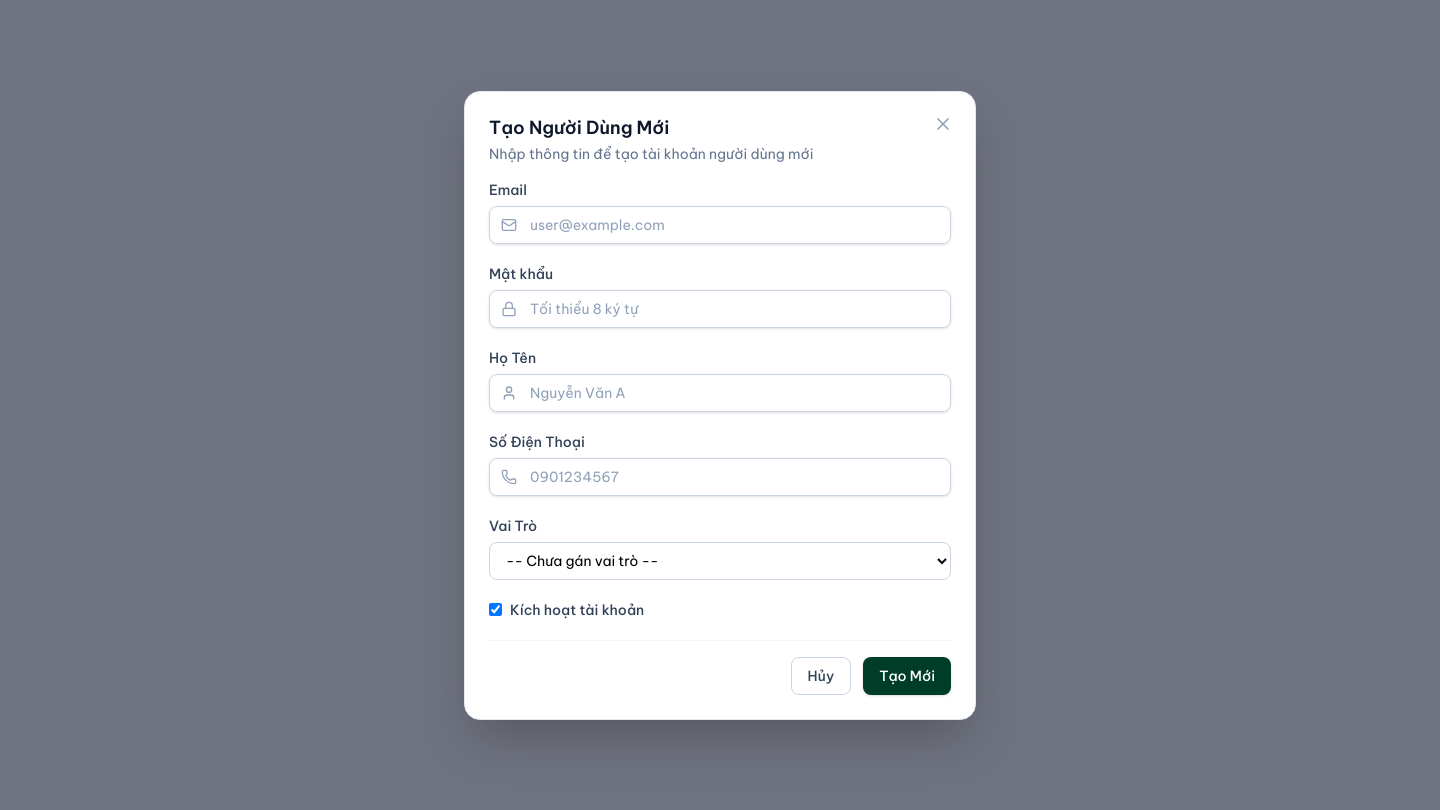
Test: UserFormModal › shows a validation error for a too-short password
The width and height of the screenshot is (1440, 810).
Type "jane@example.com" into the field labelled "Email" at (720,224), box [489,206,951,244]
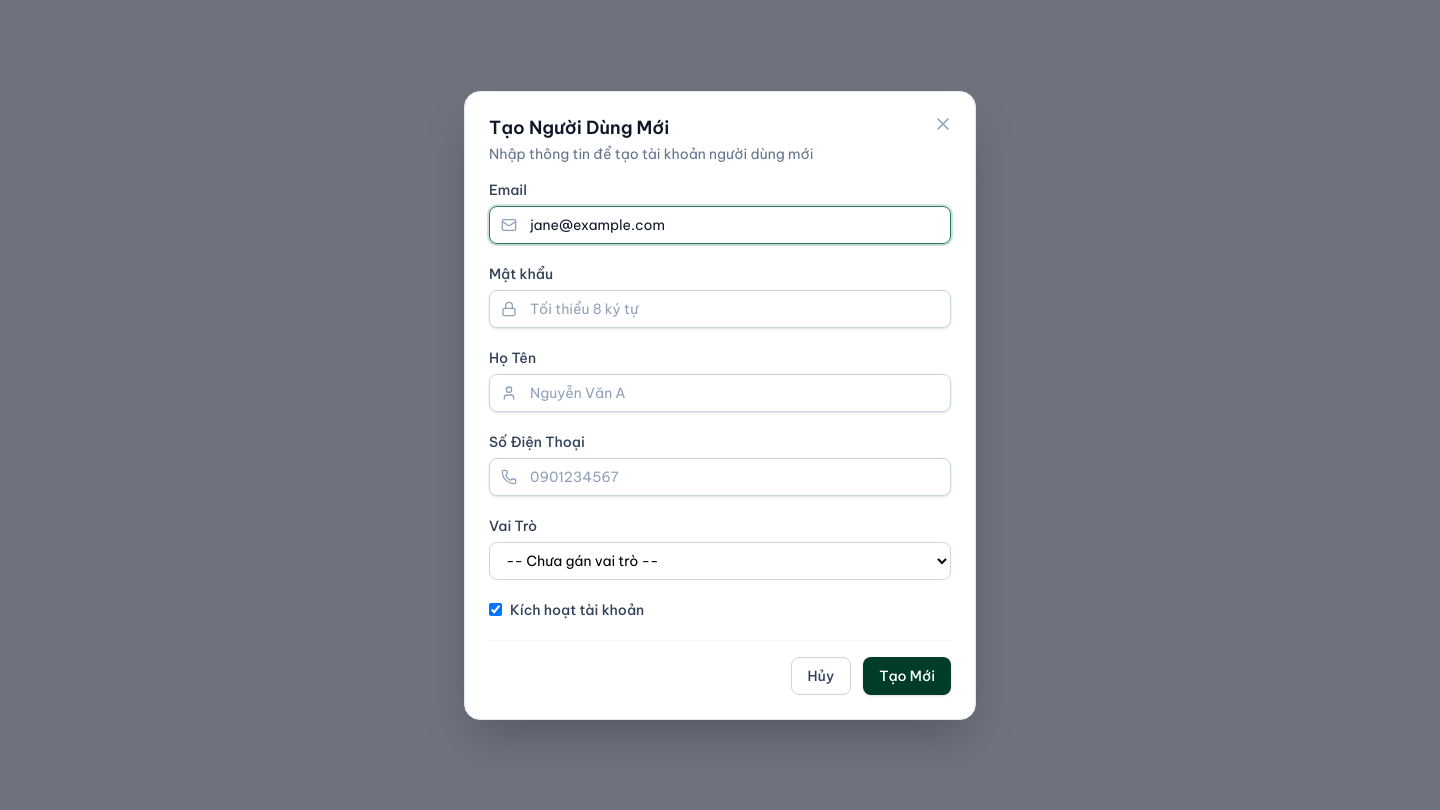
Type "short" into the password field labelled "Mật khẩu" at (720,308), box [489,290,951,328]
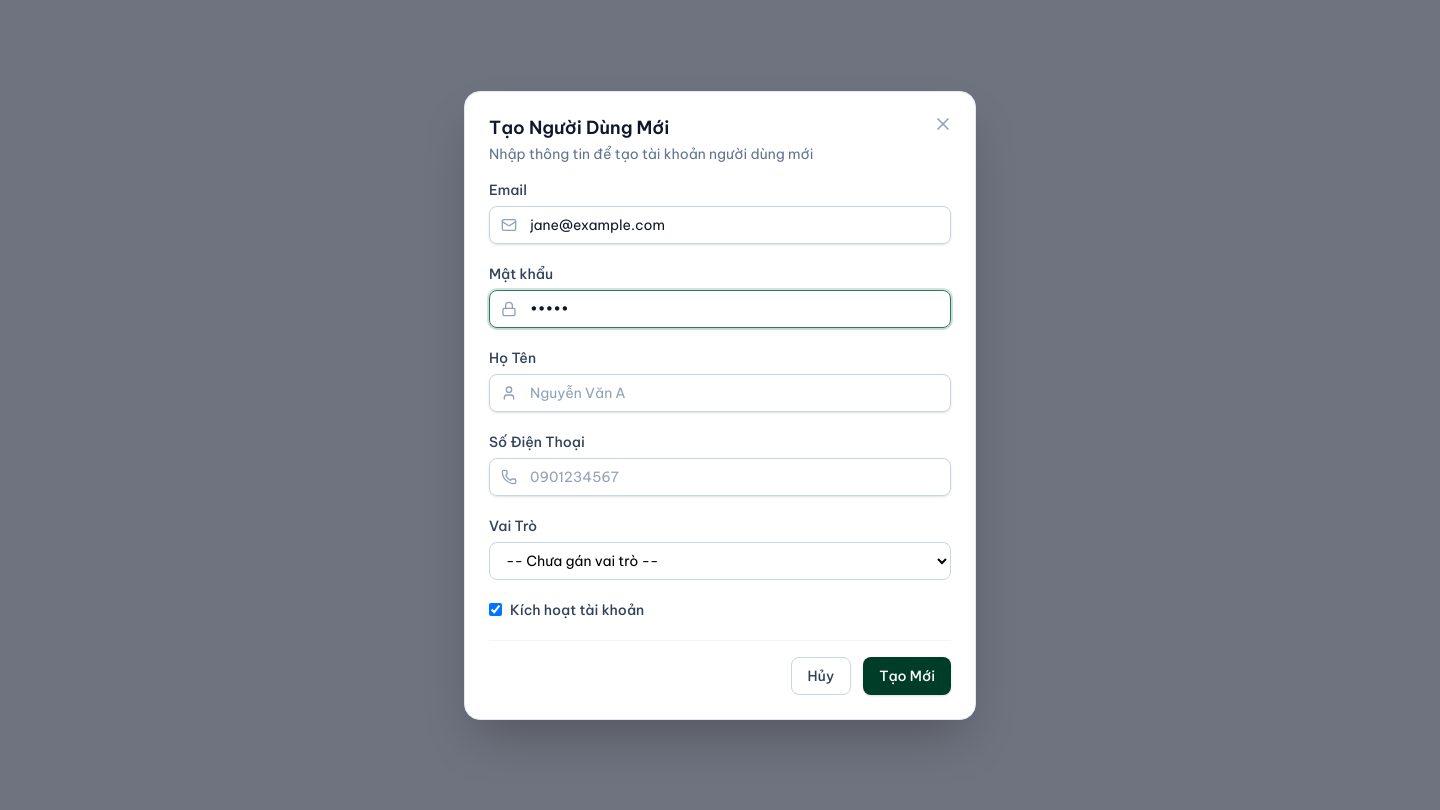
Type "Jane Doe" into the field labelled "Họ Tên" at (720,392), box [489,374,951,412]
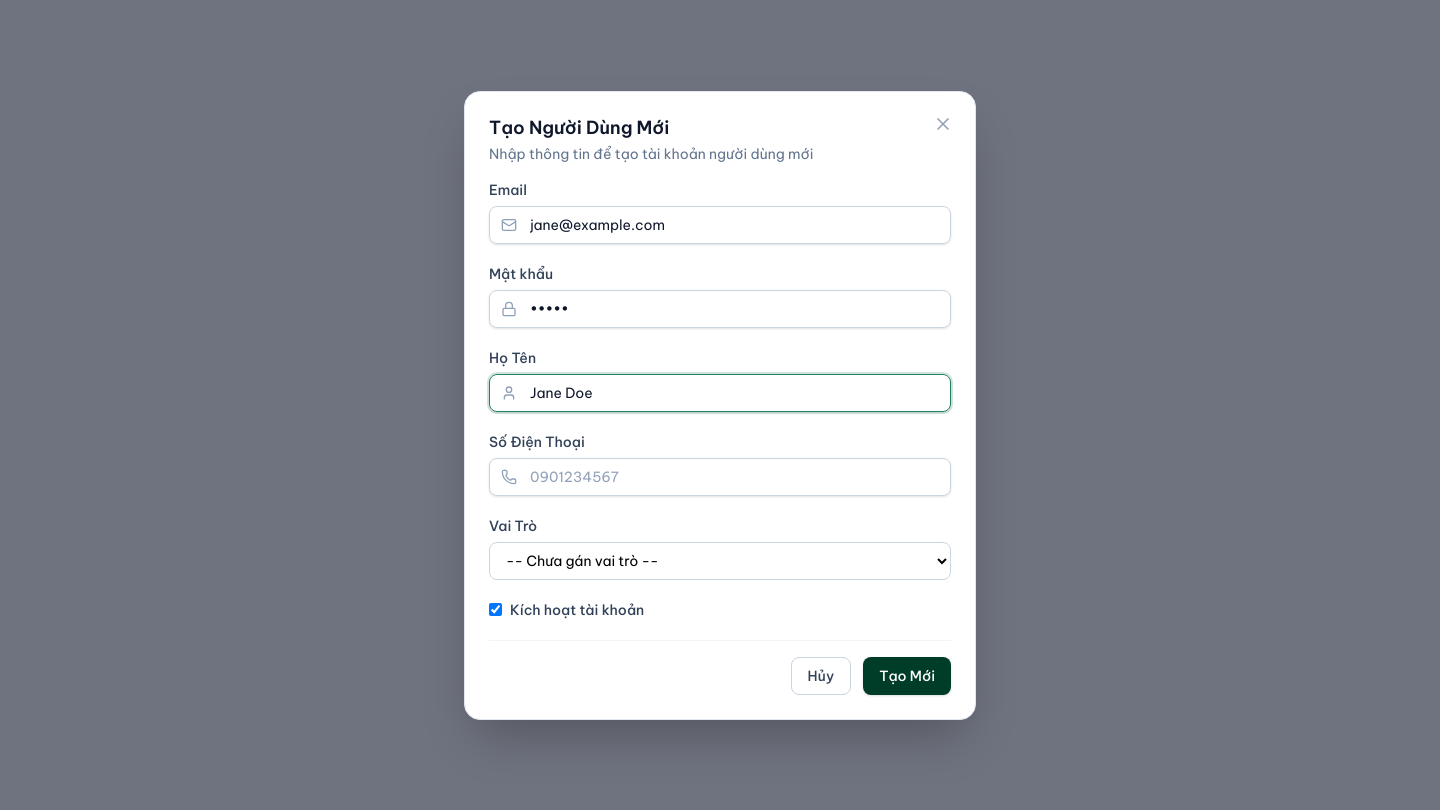
Click the button "Tạo Mới" at (907,676), box [863,656,951,694]
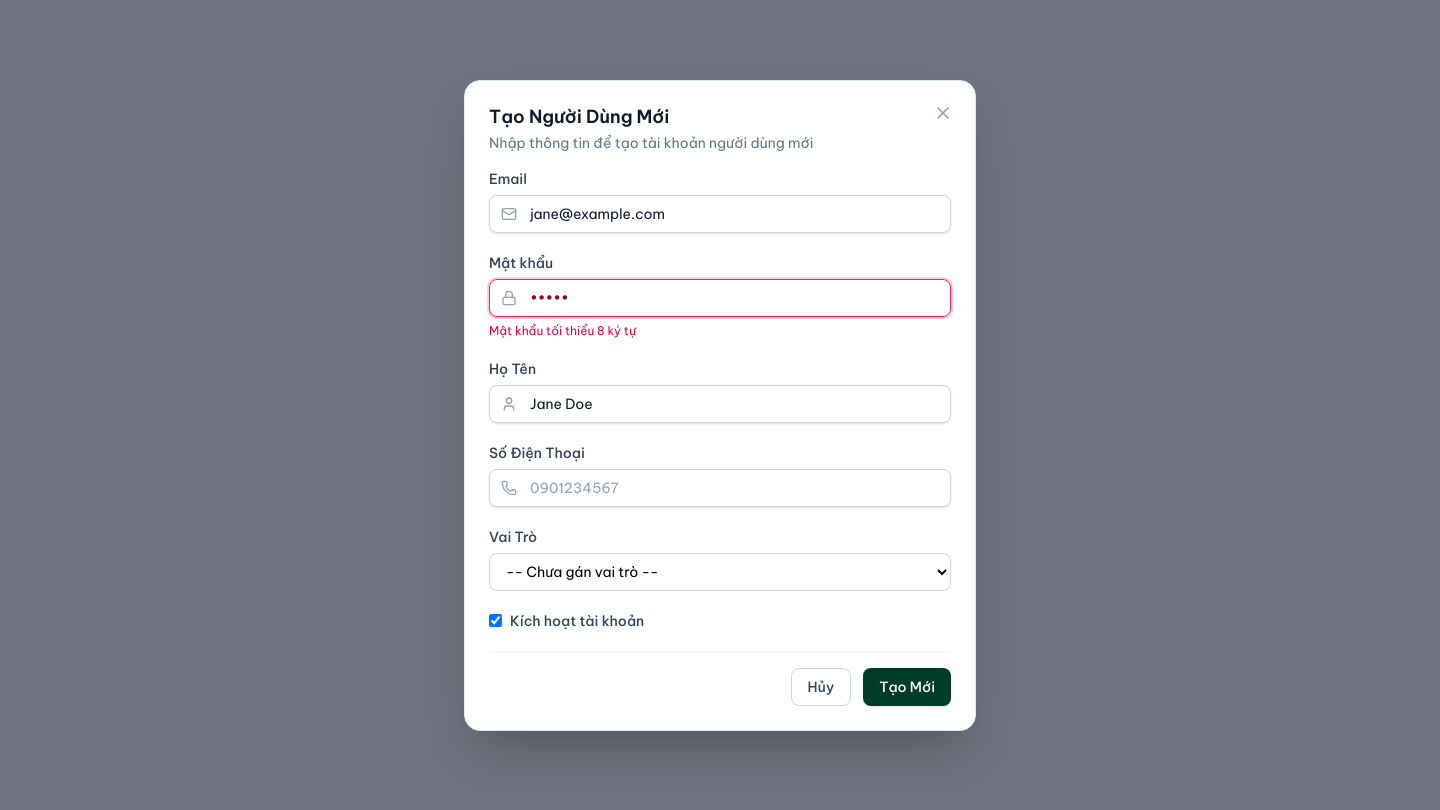
Expected: the text "Mật khẩu tối thiểu 8 ký tự" is shown, [489,322,636,338]
